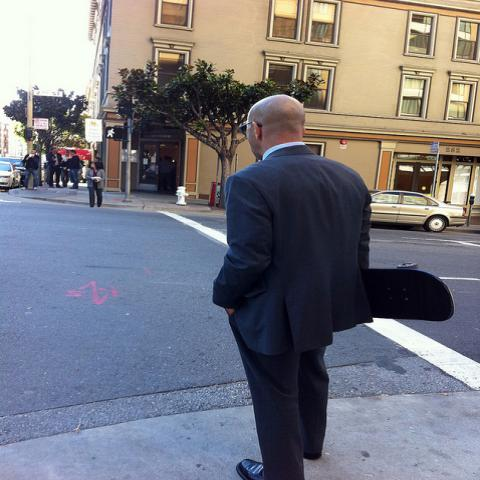car: (367, 189, 468, 233), (0, 156, 26, 185), (0, 161, 15, 191), (13, 170, 22, 189)
